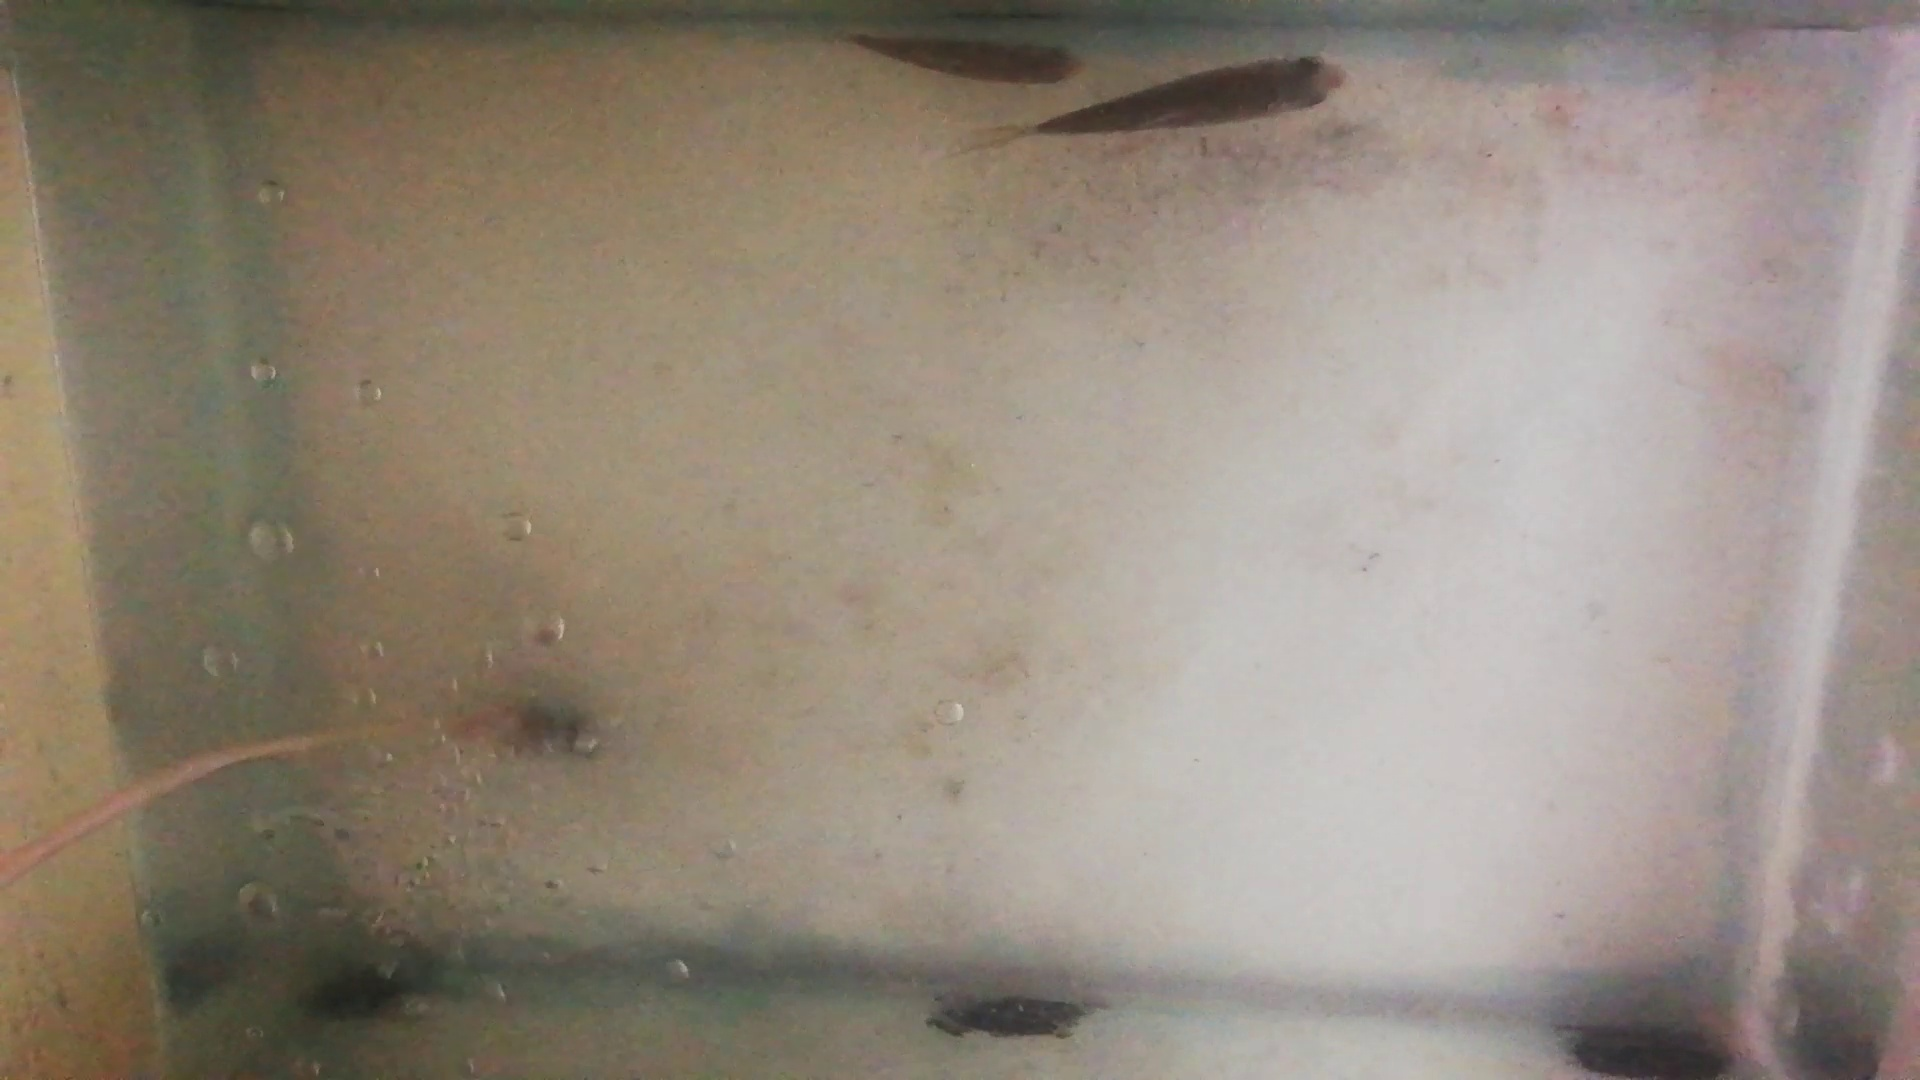fish: (1038, 55, 1346, 133), (843, 26, 1084, 88)
